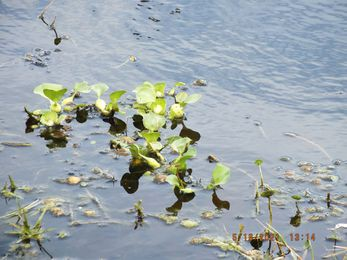water_hyacinth: (22, 66, 238, 206)
